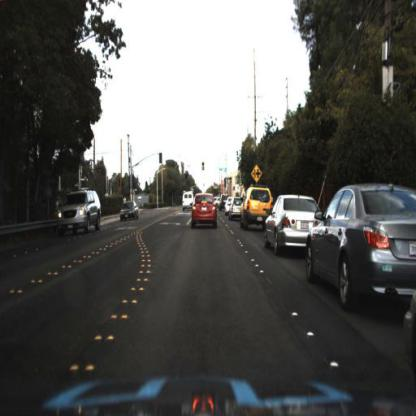car: (303, 178, 416, 324), (264, 186, 309, 263), (53, 176, 106, 241), (188, 185, 222, 234), (241, 187, 270, 236), (121, 199, 142, 222), (229, 192, 241, 224), (219, 192, 231, 215)
trafficLight: (203, 156, 208, 178), (184, 167, 191, 182)
